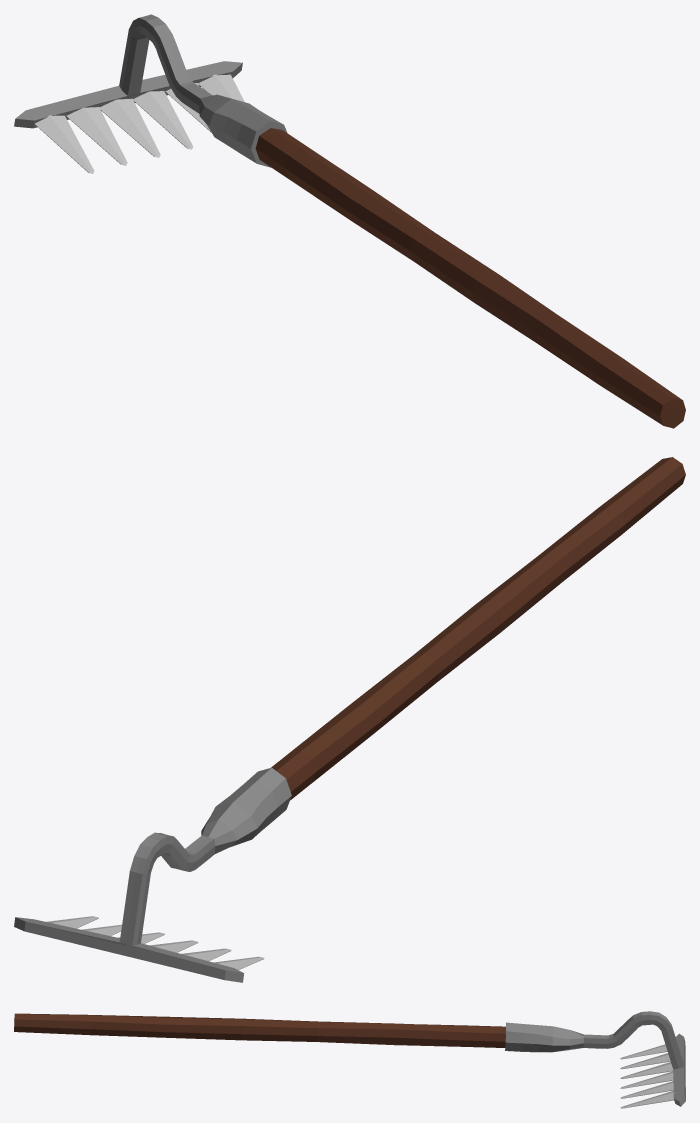
File: groundfork.glb
3 renders of one model, top to bottom at view 1: azimuth 30°, elevation 25°; view 2: azimuth 150°, elevation 25°; view 3: azimuth 270°, elevation 25°, orthographic. The views are drawn at different scales.
Visible parts, largest first — view 1: ground fork; view 2: ground fork; view 3: ground fork.
Part boxes in pixels (x1,y1,x2,y2): ground fork: (14,14,685,428); ground fork: (14,457,685,982); ground fork: (14,1011,685,1108).
Size of the model in its own units: 2.01 by 0.9812 by 8.4.
